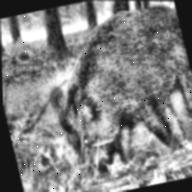boar: (28, 0, 192, 188)
